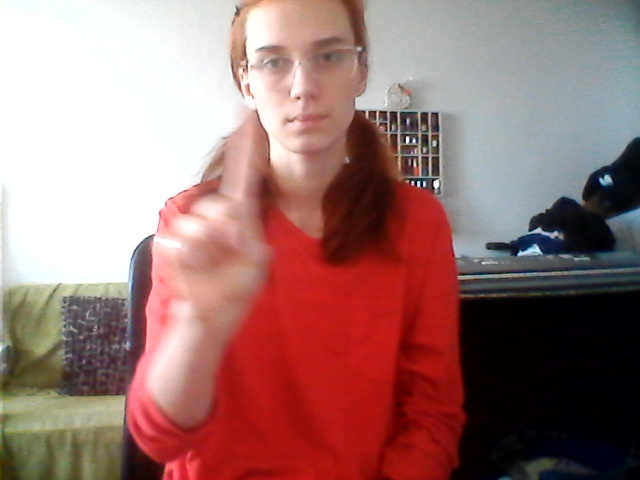i: (149, 101, 280, 331)
